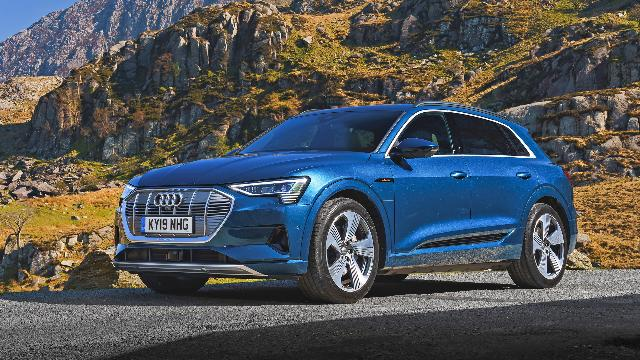audi: (112, 100, 578, 304)
